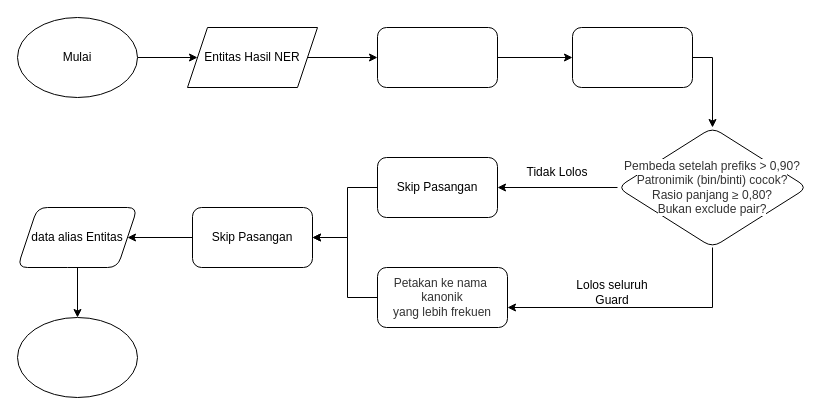
This 825x415 diagram has some shape labels left out. Here are the shapes that lost their labels. From the top down, the box of each, then its label:
(376, 26, 498, 88): Manual Clusters
(572, 26, 692, 88): Jaro-Winkler Similarity (threshold 0,93)
(16, 316, 138, 398): Selesai
